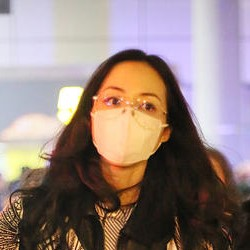mask: (79, 98, 166, 168)
